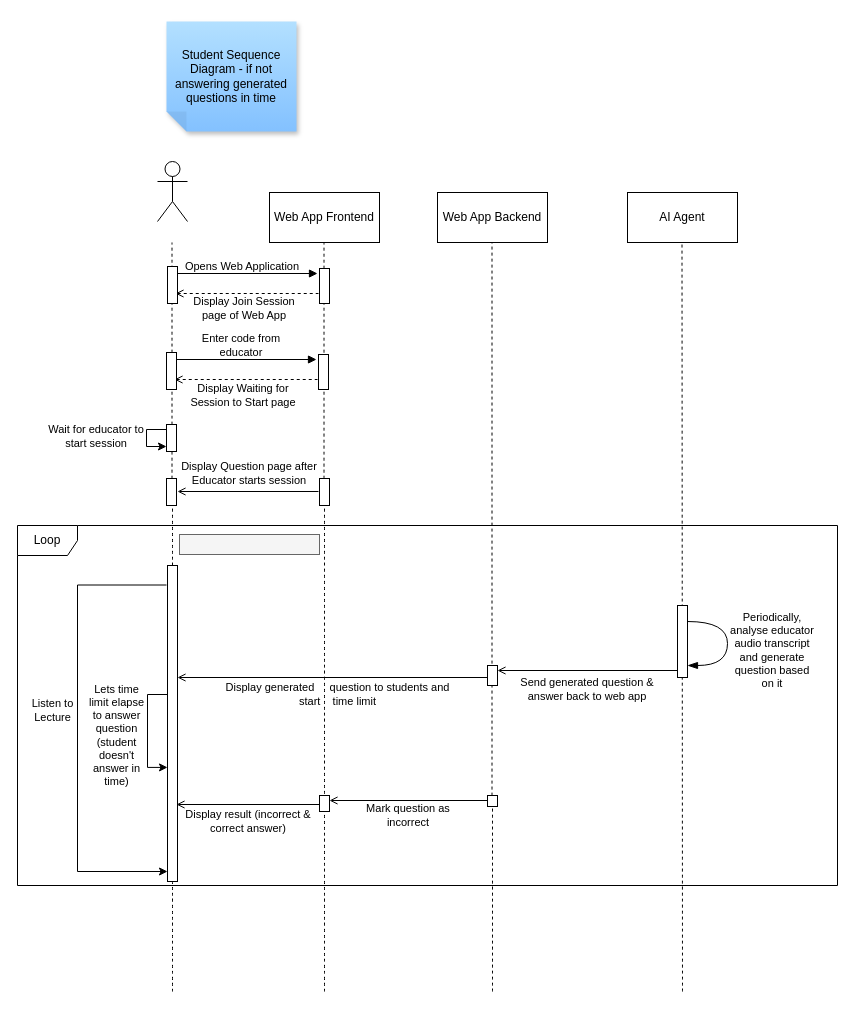
The diagram is 855 pixels wide and 1010 high, and some of its shapes have lost their labels. Each missing label, with the centre of its shape:
"(lectureRunning = true)" belongs at pixel 249 544.
"Student" belongs at pixel 172 191.
